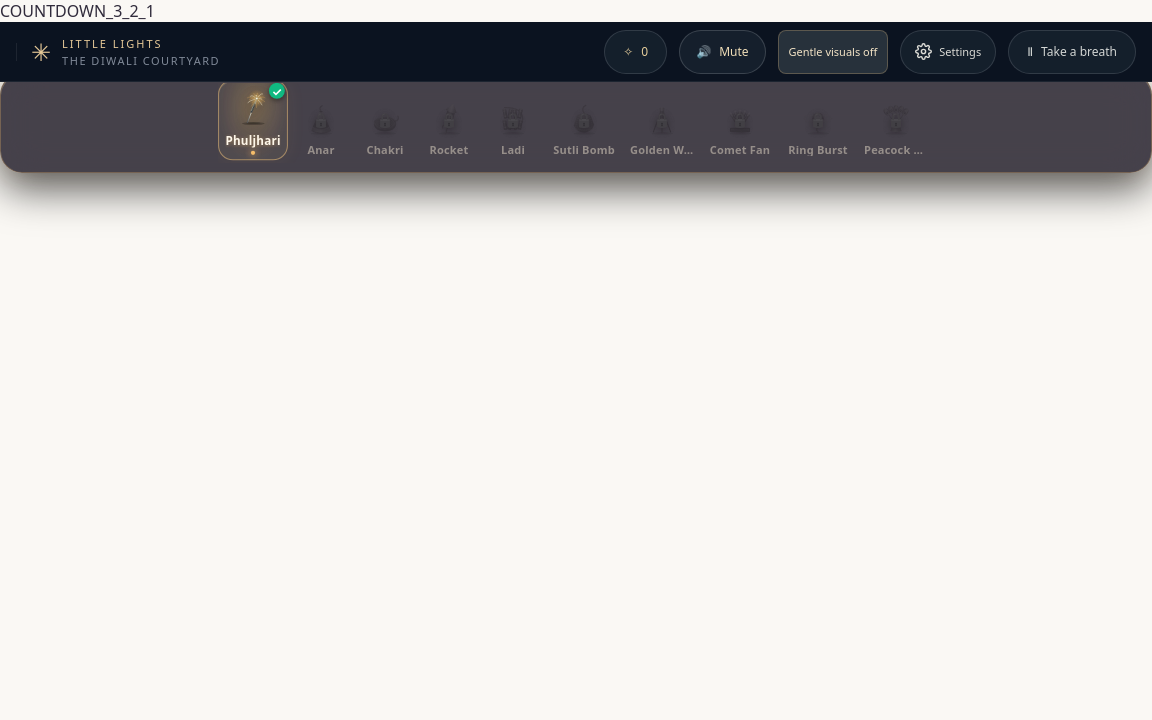
Test: G3 — Make Sticker Book and settings participate in interruption › suspends countdown when Sticker Book is opened and prevents background show completion
The width and height of the screenshot is (1152, 720).
Note: Open Sticker Book during countdown
Click the button named "open sticker book" at [636, 52], box [604,30,667,74]
Wait 5000 ms
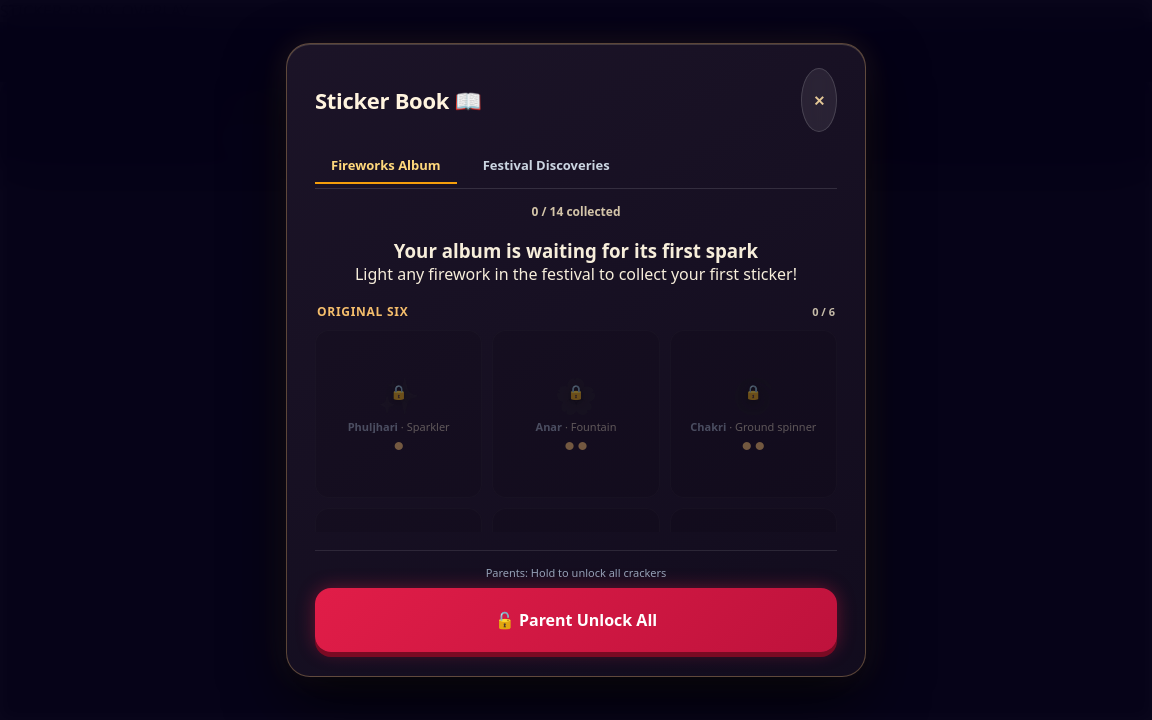
Result: the dialog "Sticker" is shown
Note: Close Sticker Book
Click the button named "close" at [819, 100], box [801,68,837,132]
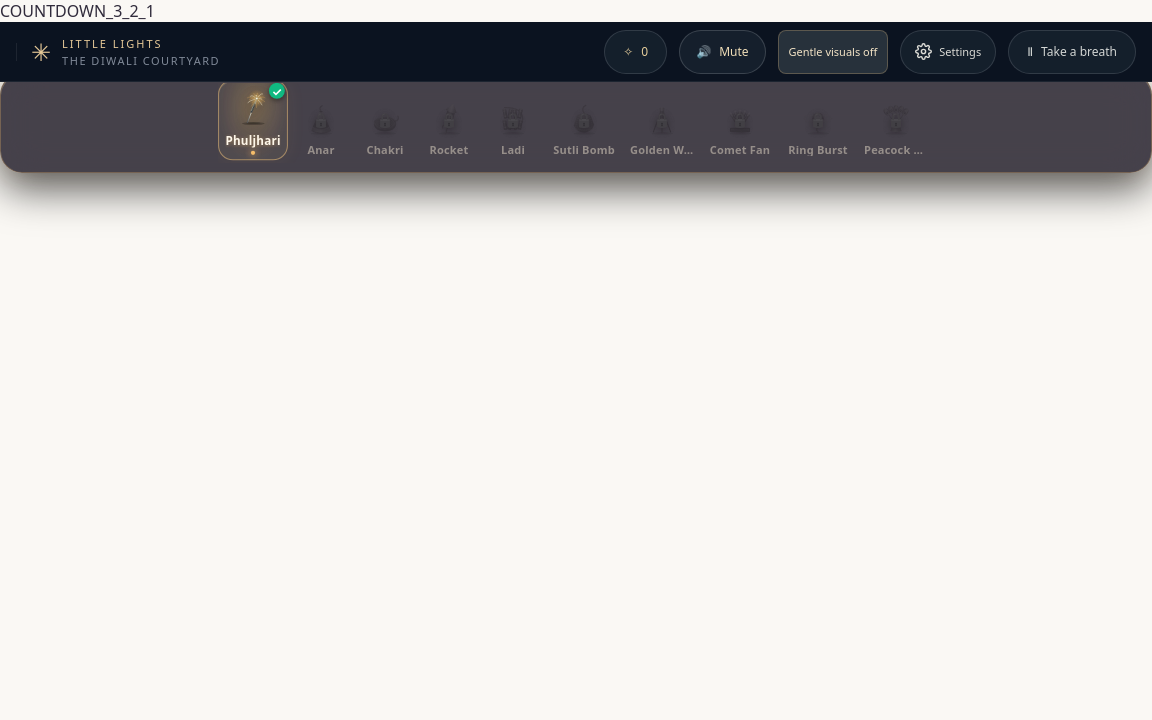
Result: the text "COUNTDOWN_3_2_1" is shown at [0,0,155,22]
